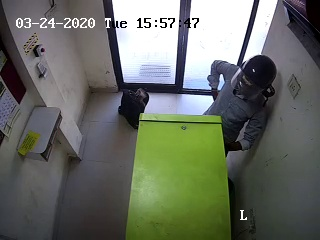helmet: (230, 54, 276, 105)
